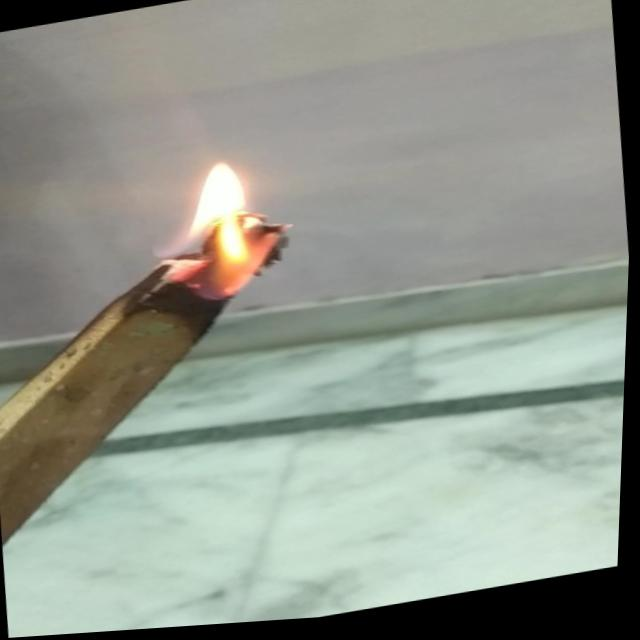fire: (144, 142, 309, 317)
